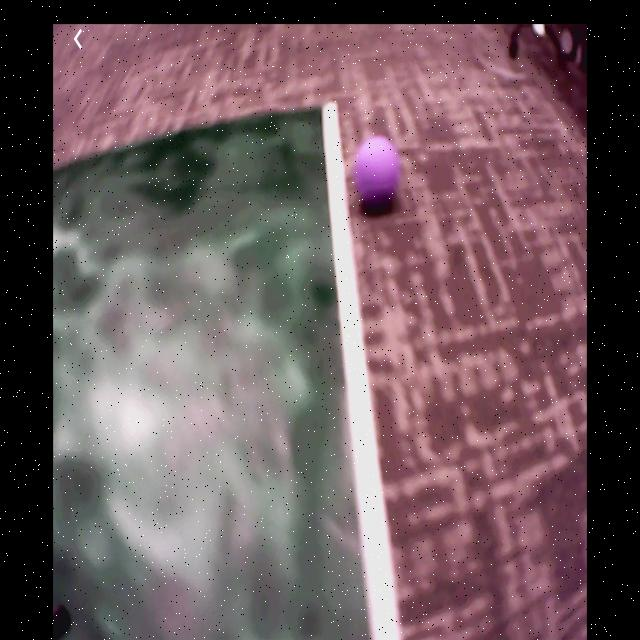ball: (354, 140, 398, 203)
